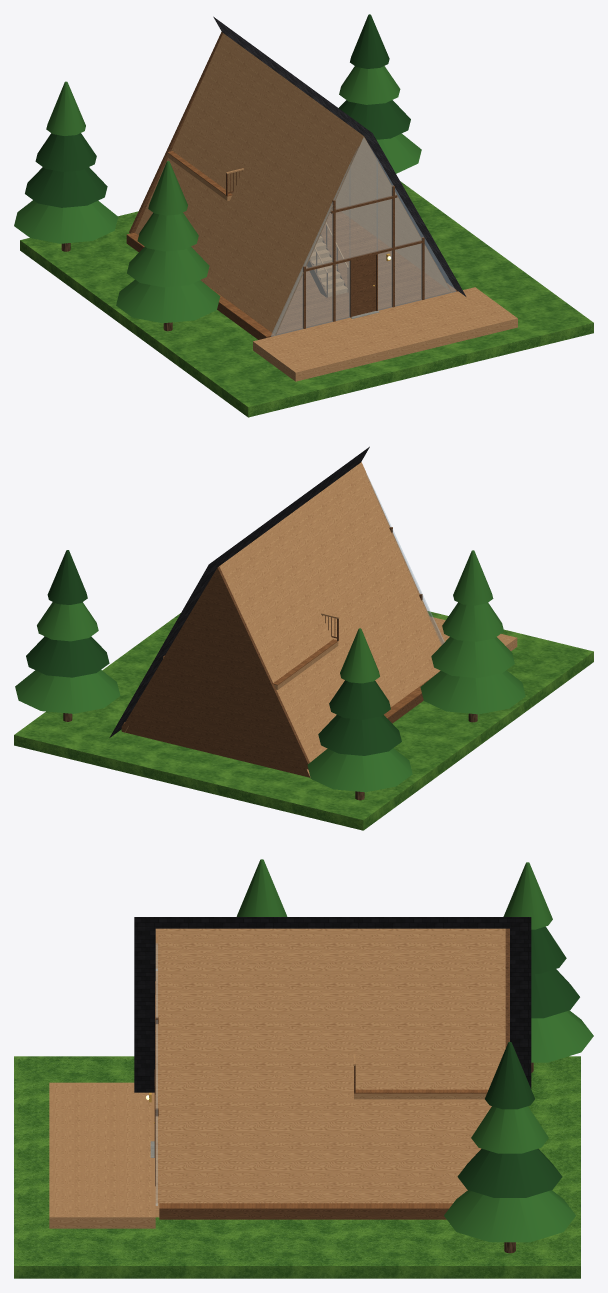
File: b_a_frame_cabin.gltf
3 views of the same model, one above another, from view 1: azimuth 30°, elevation 25°; view 2: azimuth 150°, elevation 25°; view 3: azimuth 270°, elevation 25° (orthographic). The views are drawn at different scales.
Parts seen in each view (by area): view 1: S_a_frame_cabin, D_a_frame_cabin_FrontDoor_Door0; view 2: S_a_frame_cabin; view 3: S_a_frame_cabin.
Part boxes in pixels (box(x1,y1,x2,y2)): S_a_frame_cabin: box(14, 14, 593, 417); D_a_frame_cabin_FrontDoor_Door0: box(352, 255, 375, 316); S_a_frame_cabin: box(14, 446, 593, 830); S_a_frame_cabin: box(14, 859, 593, 1278).
Bounding box in the file's own units: 15.76 × 8 × 16.37.
Materials: 14 (7 with a texture image).
